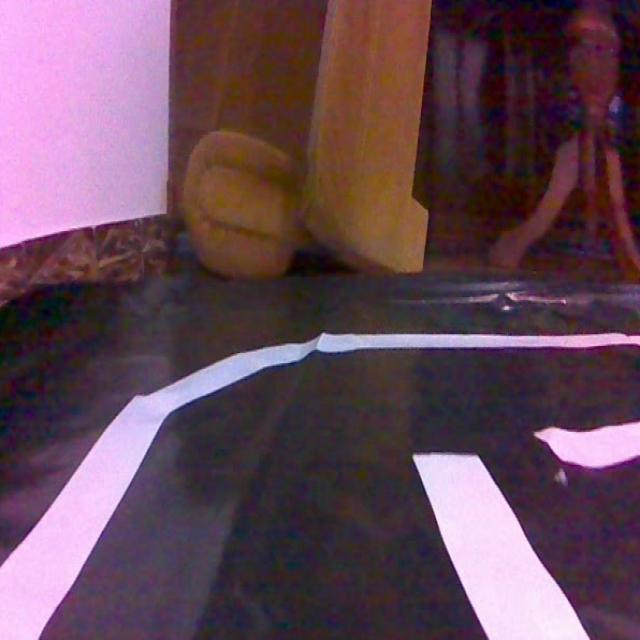LineaCarril: (0, 339, 318, 640), (413, 453, 591, 640), (317, 333, 640, 352), (534, 422, 640, 468)
